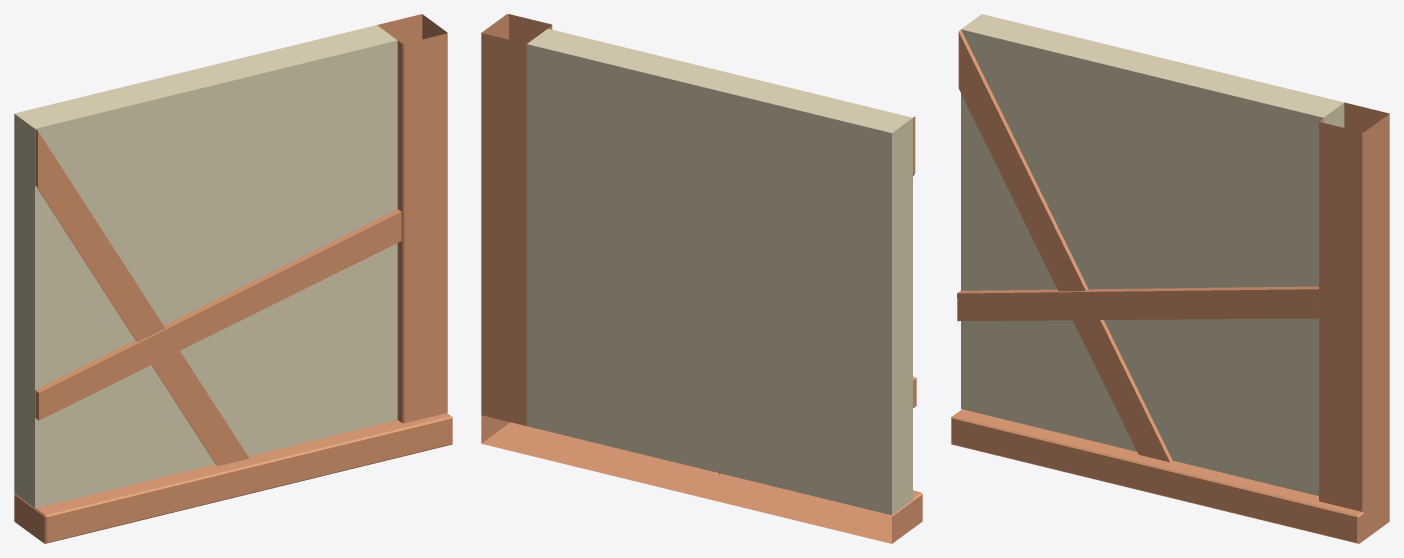
Rendered from Wall3_low.fbx.
3 renders of one model, left to right at view 1: azimuth 30°, elevation 25°; view 2: azimuth 150°, elevation 25°; view 3: azimuth 330°, elevation 25°, orthographic.
Parts seen in each view (by area): view 1: Wall3_low, Wall3_woodplank1_low, Wall3_woodframe1_low; view 2: Wall3_low, Wall3_woodplank1_low; view 3: Wall3_low, Wall3_woodplank1_low, Wall3_woodframe1_low.
Part boxes in pixels (left/top/right/bottom): Wall3_low: left=14, top=25, right=397, bottom=508; Wall3_woodplank1_low: left=14, top=14, right=452, bottom=543; Wall3_woodframe1_low: left=35, top=129, right=401, bottom=466; Wall3_low: left=526, top=28, right=912, bottom=515; Wall3_woodplank1_low: left=481, top=14, right=922, bottom=543; Wall3_low: left=961, top=14, right=1344, bottom=495; Wall3_woodplank1_low: left=951, top=102, right=1389, bottom=543; Wall3_woodframe1_low: left=957, top=30, right=1318, bottom=462.
Bounding box in the file's own units: 450 × 430 × 60.
